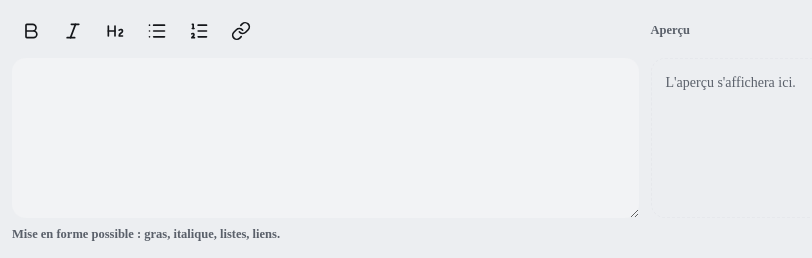
Test case: the bar of buttons › puts a word to type where nothing is selected
Click the button named "Italique": click(73, 31) x1=54 y1=12 x2=92 y2=50
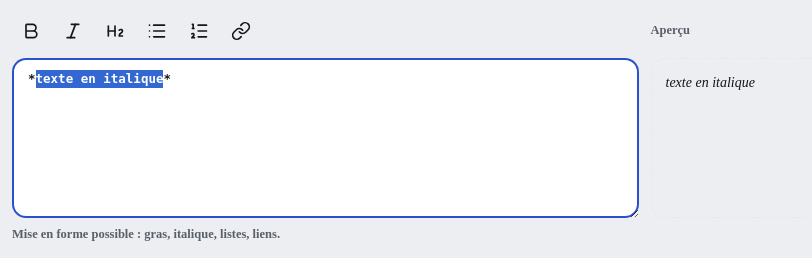
Check: the text box holds "*texte en italique*", box x1=12 y1=58 x2=638 y2=218
Check: the text "texte en italique" is shown, box x1=666 y1=75 x2=755 y2=90
